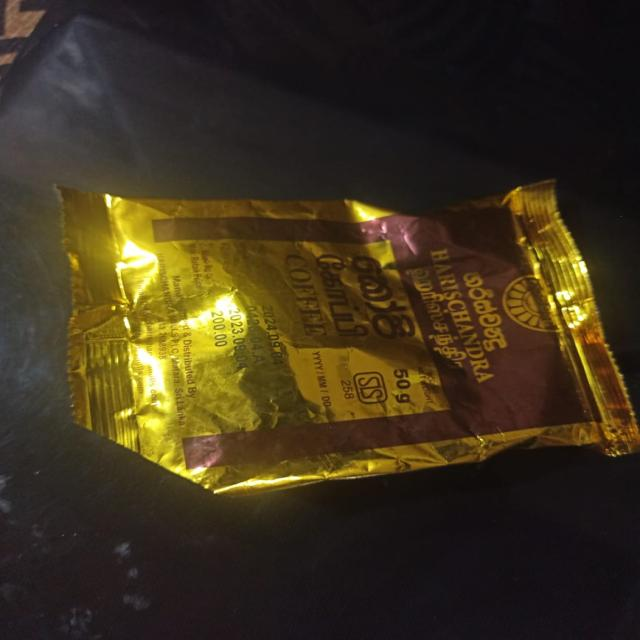Harischandra Coffee: (49, 179, 627, 521)
